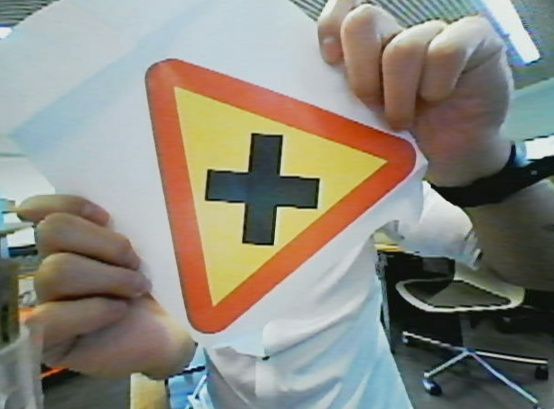junction: (142, 49, 424, 350)
